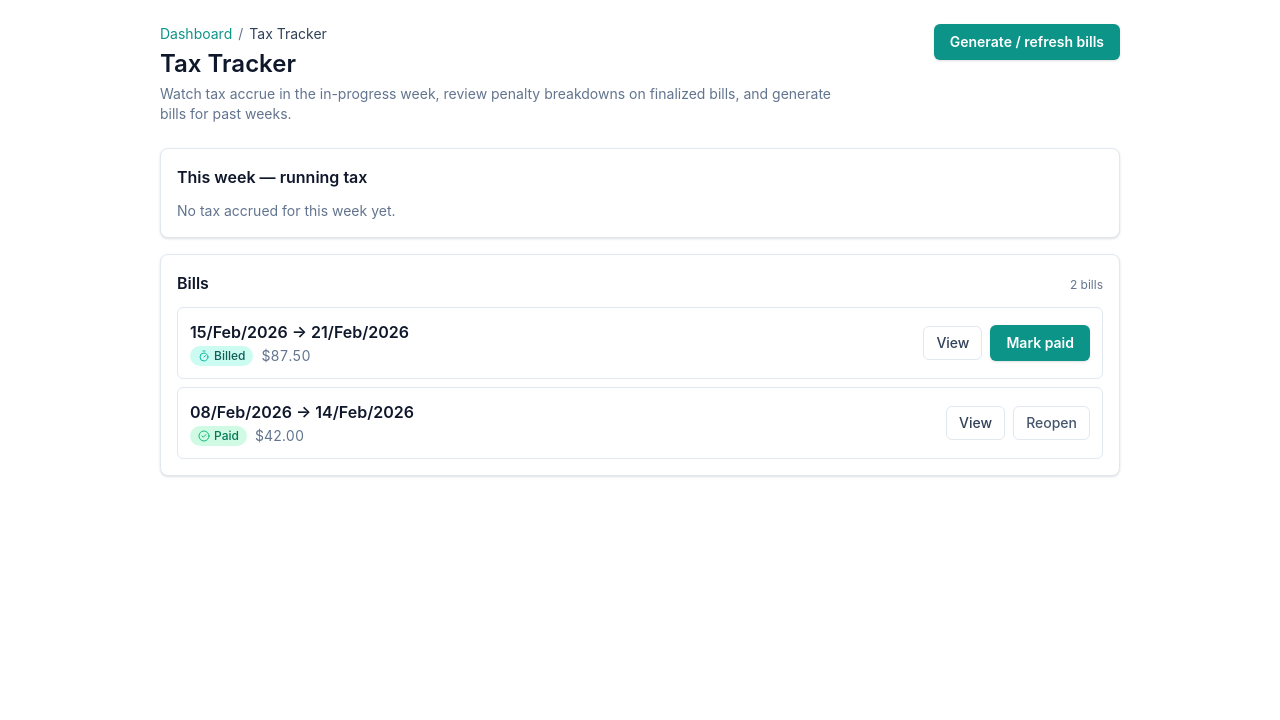
Test: TaxTrackerPage › renders a recategorization as a change-driven diff (only changed fields + tag drift)
Expected: the list item with test id "bill-row-101" is shown, [177, 307, 1103, 379]
Click the button "View" in the row of "15/Feb/2026". click: (953, 343)
box: [923, 326, 982, 360]
(page scrolled)
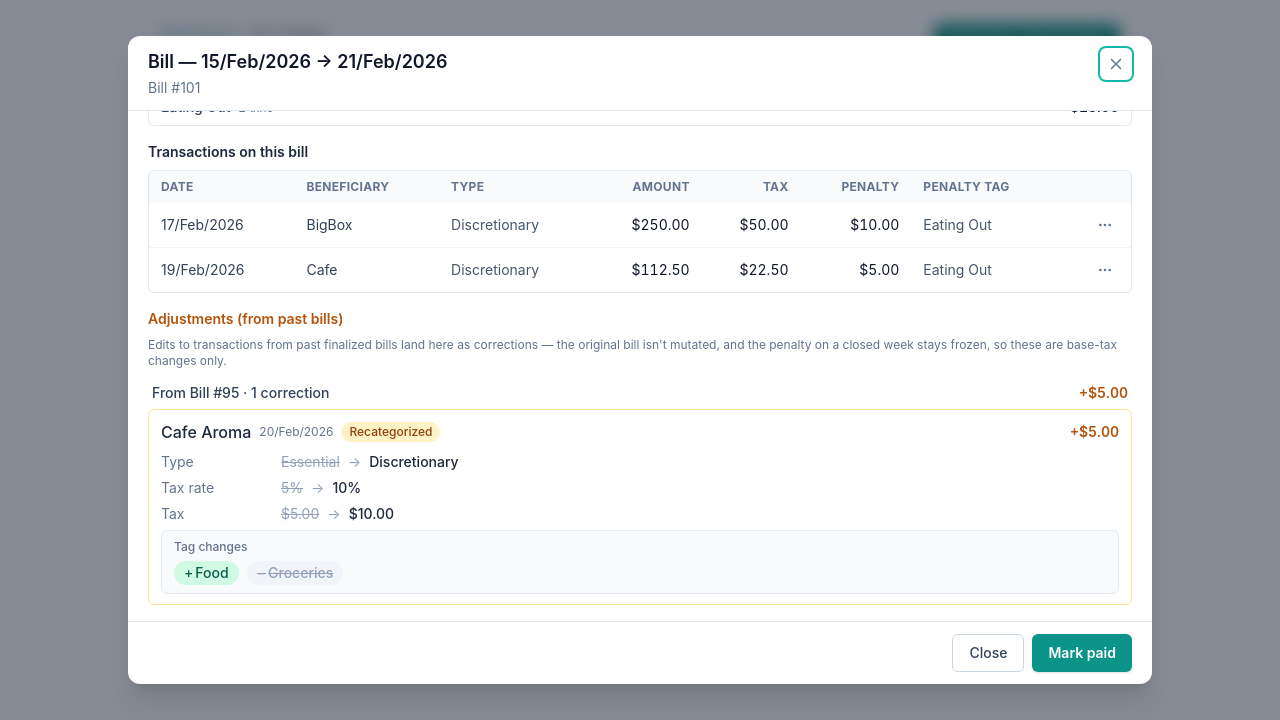
Result: the element with test id "bill-adjustments" shows "Bill #95" at [152, 384, 329, 401]
Result: the element with test id "bill-adjustments" shows "Cafe Aroma" at [161, 422, 251, 442]
Result: the element with test id "bill-adjustments" shows "Recategorized" at [350, 424, 432, 439]
